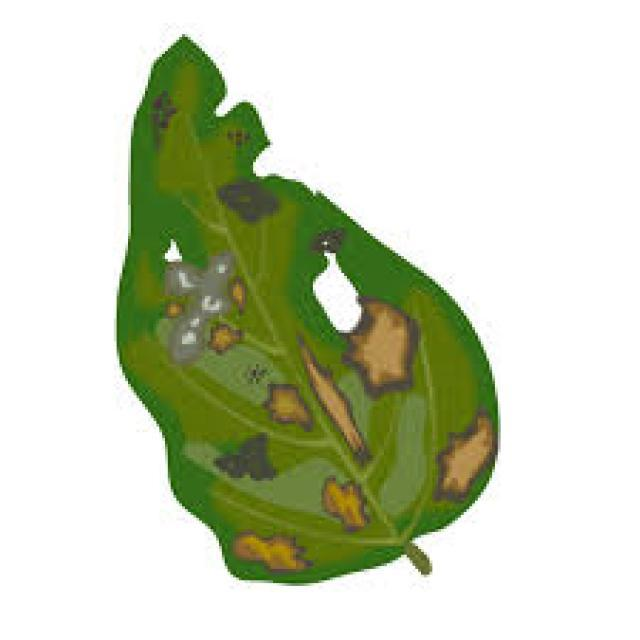leaf: (115, 33, 500, 585)
